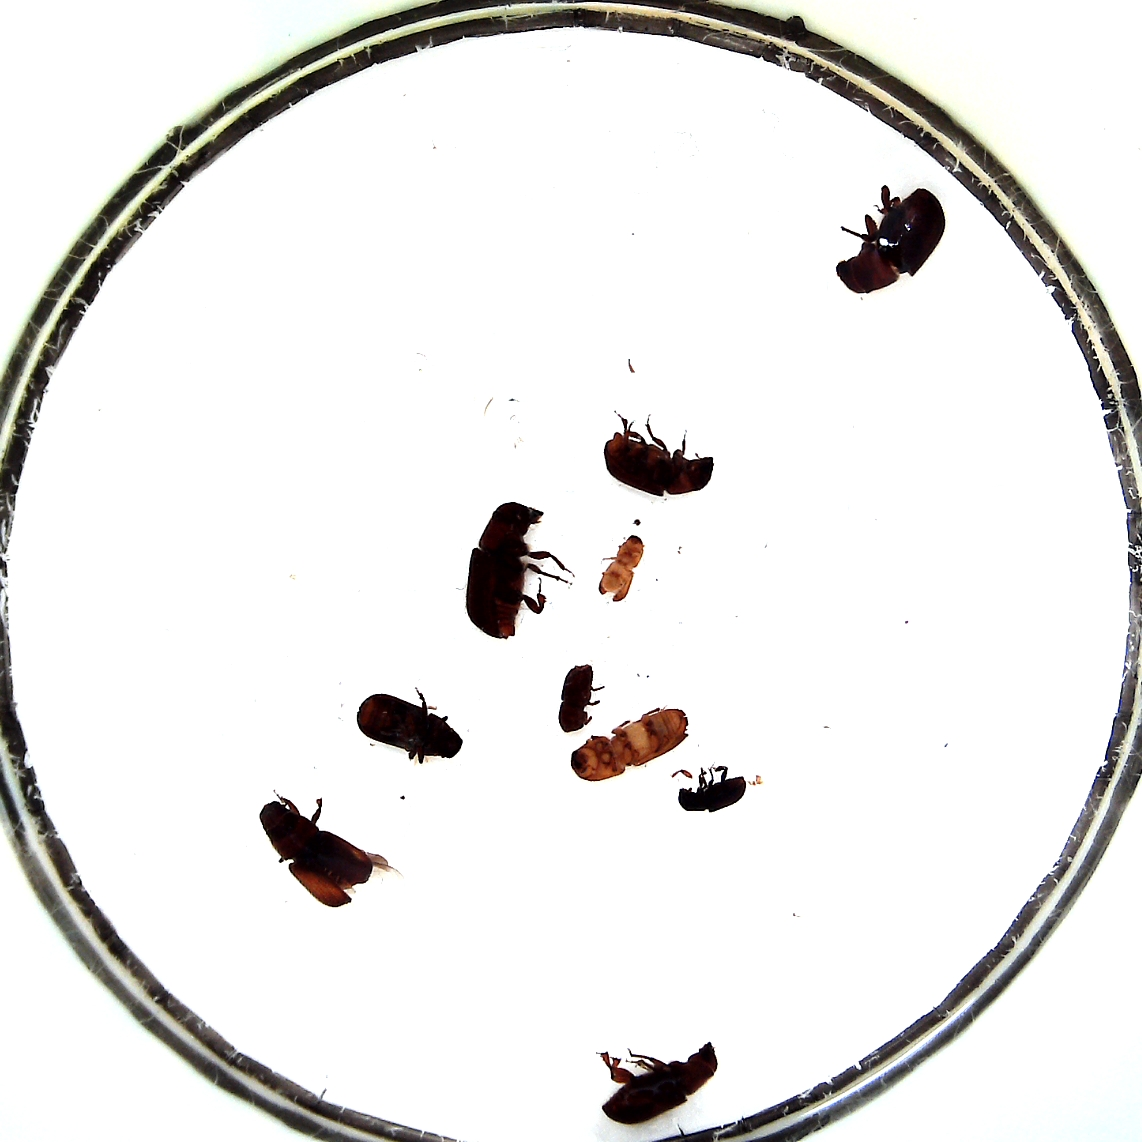Boerner: (571, 708, 691, 783)
Leconte: (259, 789, 396, 911), (466, 500, 570, 638), (833, 178, 949, 294), (601, 401, 716, 499), (595, 1042, 721, 1130), (355, 687, 469, 766)
Linnaeus: (554, 663, 608, 735)
acuminatus: (597, 532, 643, 603)
armandi: (668, 764, 748, 810)
